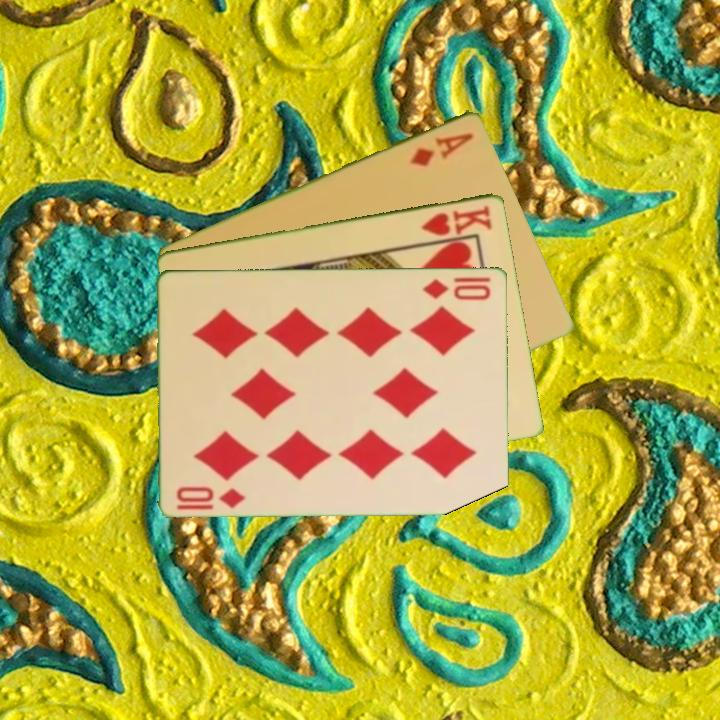10d: (173, 482, 249, 511), (420, 274, 494, 303)
Ad: (406, 128, 477, 169)
Kh: (418, 201, 495, 238)
